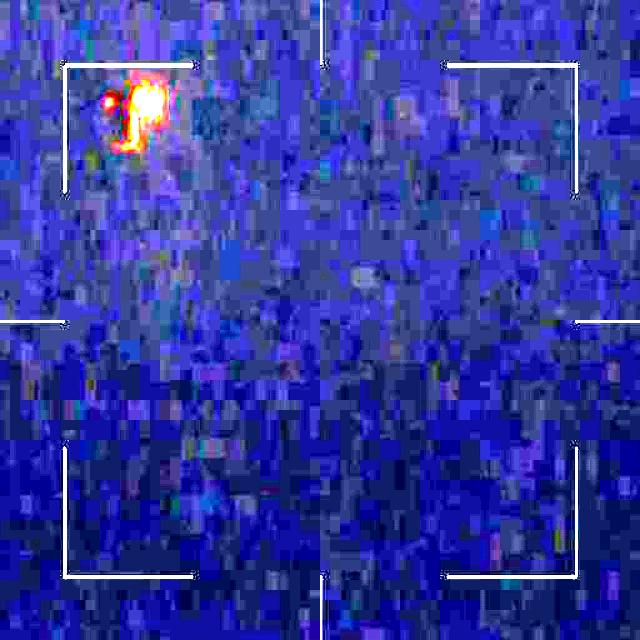bird: (99, 80, 162, 159)
